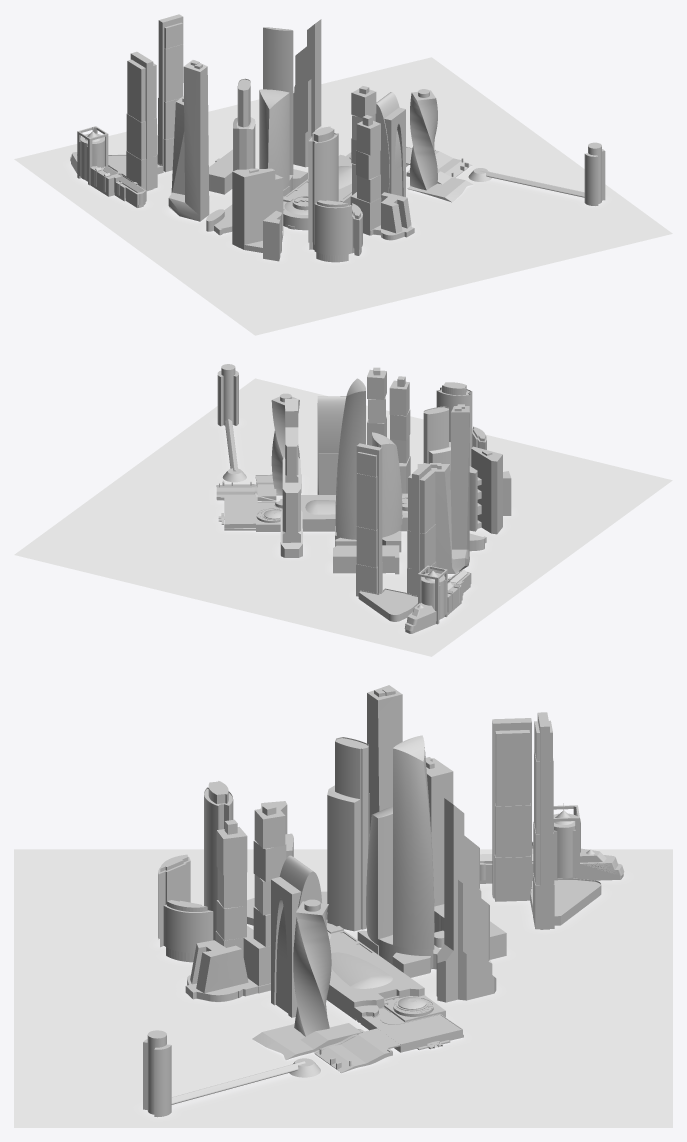
The model's file is city-exist.gltf.
The picture shows the model from 3 angles, top to bottom: view 1: azimuth 30°, elevation 25°; view 2: azimuth 150°, elevation 25°; view 3: azimuth 270°, elevation 25°; orthographic projection. The views are drawn at different scales.
Visible parts, largest first — view 1: Plane, SketchUp; view 2: Plane, SketchUp; view 3: Plane, SketchUp.
Part boxes in pixels (x1,y1,x2,y2): Plane: [14, 57, 672, 335]; SketchUp: [70, 14, 605, 262]; Plane: [14, 378, 672, 656]; SketchUp: [216, 364, 511, 633]; Plane: [14, 849, 672, 1127]; SketchUp: [143, 685, 624, 1117].
Size of the model in its own units: 1014 by 373 by 1014.
2 materials, 1 textured.
